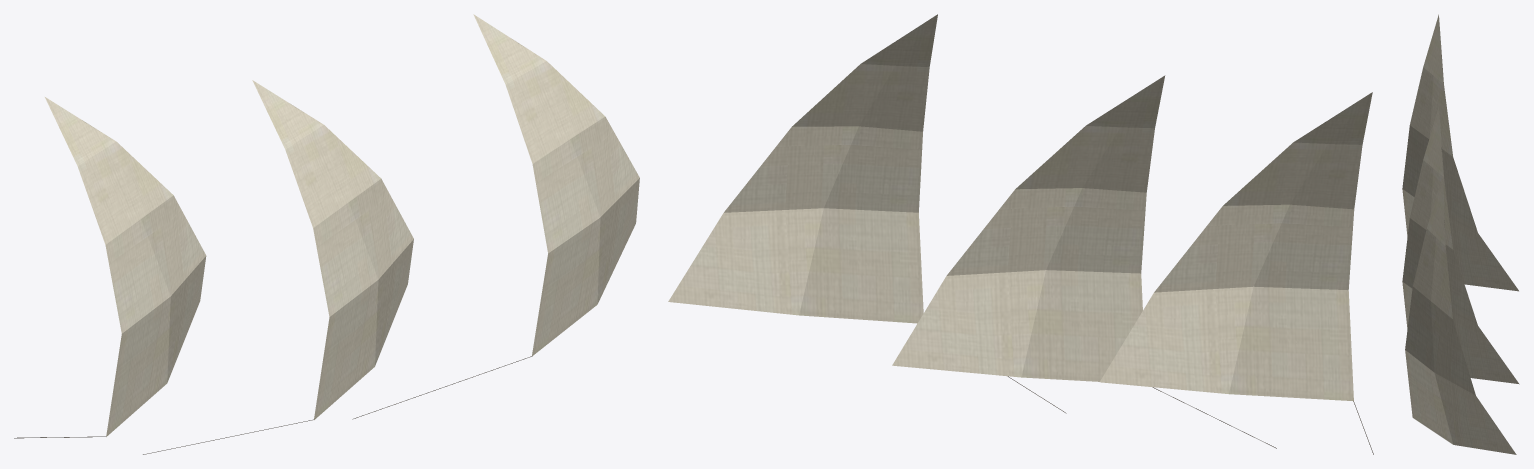
The model's file is GalleySailLD2.FBX.
3 views of the same model, side by side, from view 1: azimuth 30°, elevation 25°; view 2: azimuth 150°, elevation 25°; view 3: azimuth 270°, elevation 25° (orthographic). The views are drawn at different scales.
Parts seen in each view (by area): view 1: GalleySailLD2; view 2: GalleySailLD2; view 3: GalleySailLD2.
Boxes of the visible parts, x1=… form: GalleySailLD2: x1=45, y1=14, x2=639, y2=436; GalleySailLD2: x1=668, y1=14, x2=1372, y2=401; GalleySailLD2: x1=1402, y1=14, x2=1519, y2=454.
Size of the model in its own units: 605 by 346 by 135.
